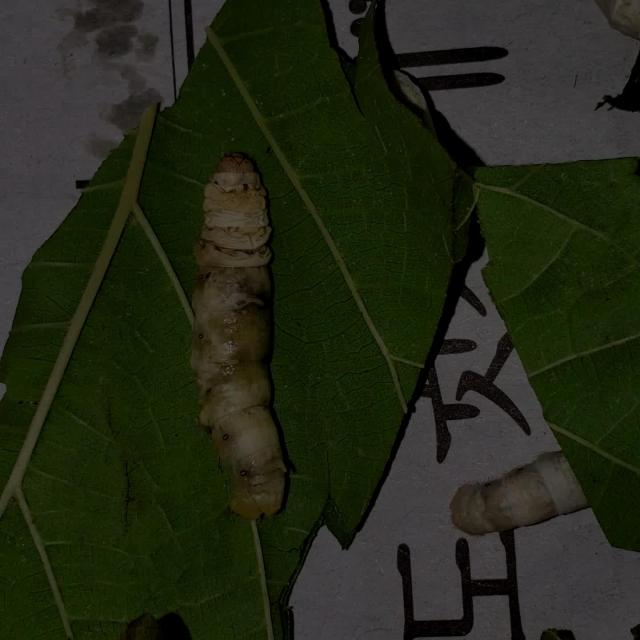Grasserie: (167, 145, 316, 531)
